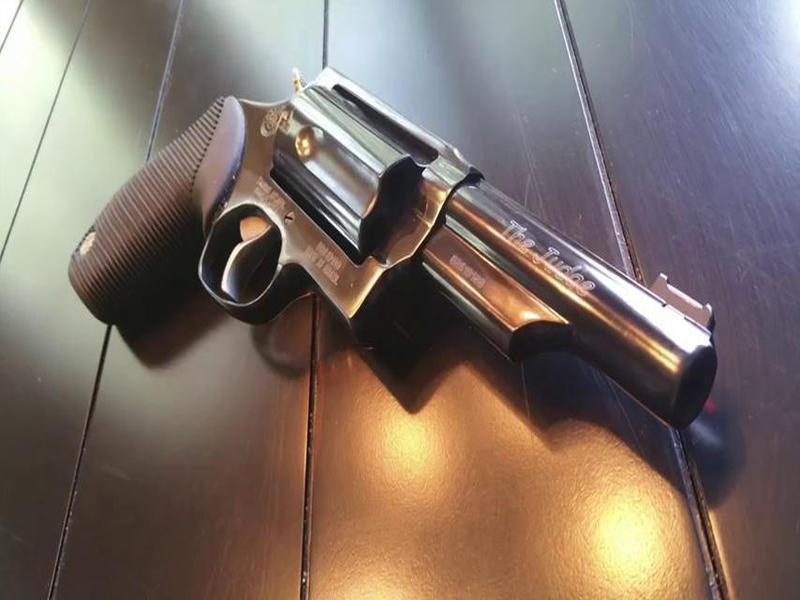Revolver: (70, 51, 752, 440)
